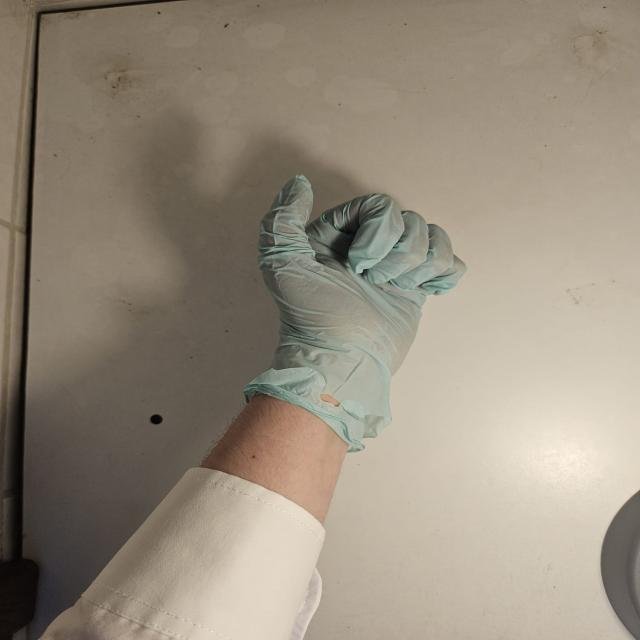gloves_damaged: (240, 171, 468, 452)
